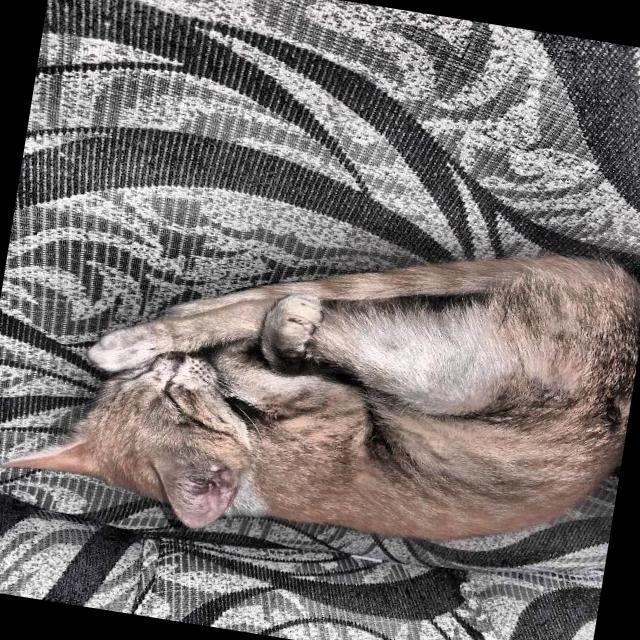Healthy skin: (335, 318, 579, 471), (41, 387, 249, 539)
